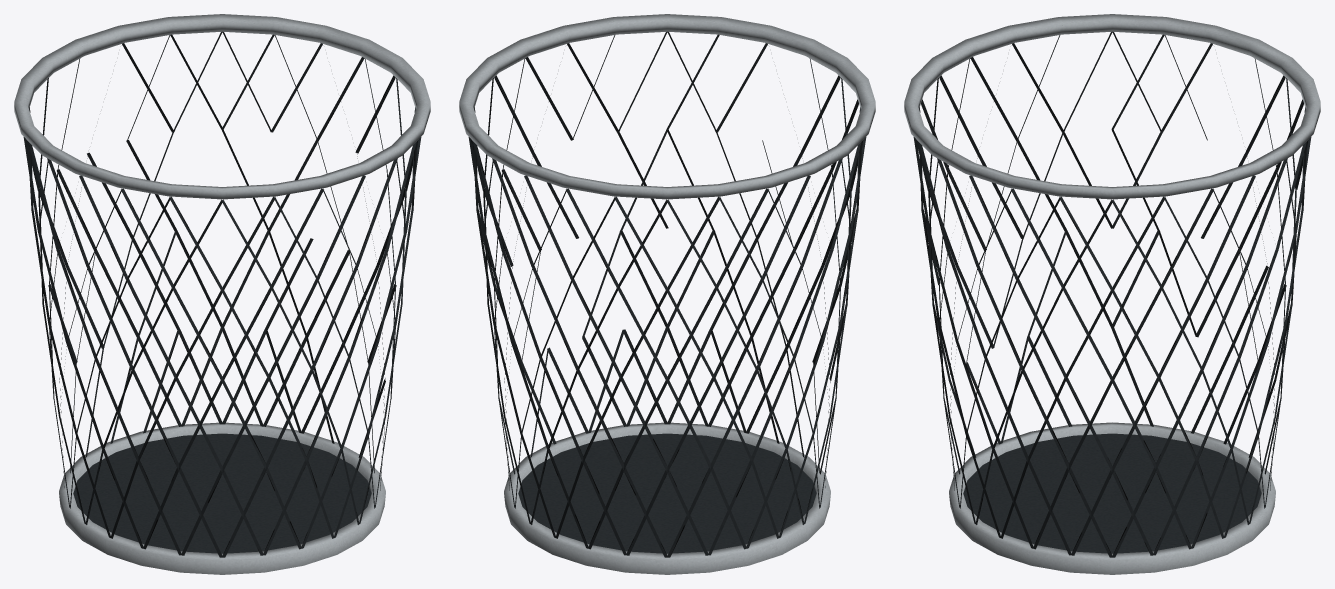
File: SM_TrashBin_01.fbx
3 renders of one model, left to right at view 1: azimuth 30°, elevation 25°; view 2: azimuth 150°, elevation 25°; view 3: azimuth 270°, elevation 25°, orthographic.
Parts seen in each view (by area): view 1: SM_TrashBin_01_WireBasket; view 2: SM_TrashBin_01_WireBasket; view 3: SM_TrashBin_01_WireBasket.
Boxes of the visible parts, <box> form: SM_TrashBin_01_WireBasket: <box>14,14,430,574</box>; SM_TrashBin_01_WireBasket: <box>459,14,875,574</box>; SM_TrashBin_01_WireBasket: <box>904,14,1320,574</box>.
Bounding box in the file's own units: 0.28 × 0.3 × 0.28.
